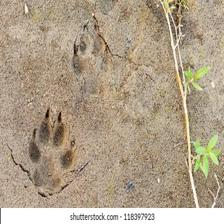coyote: (25, 107, 80, 199)
